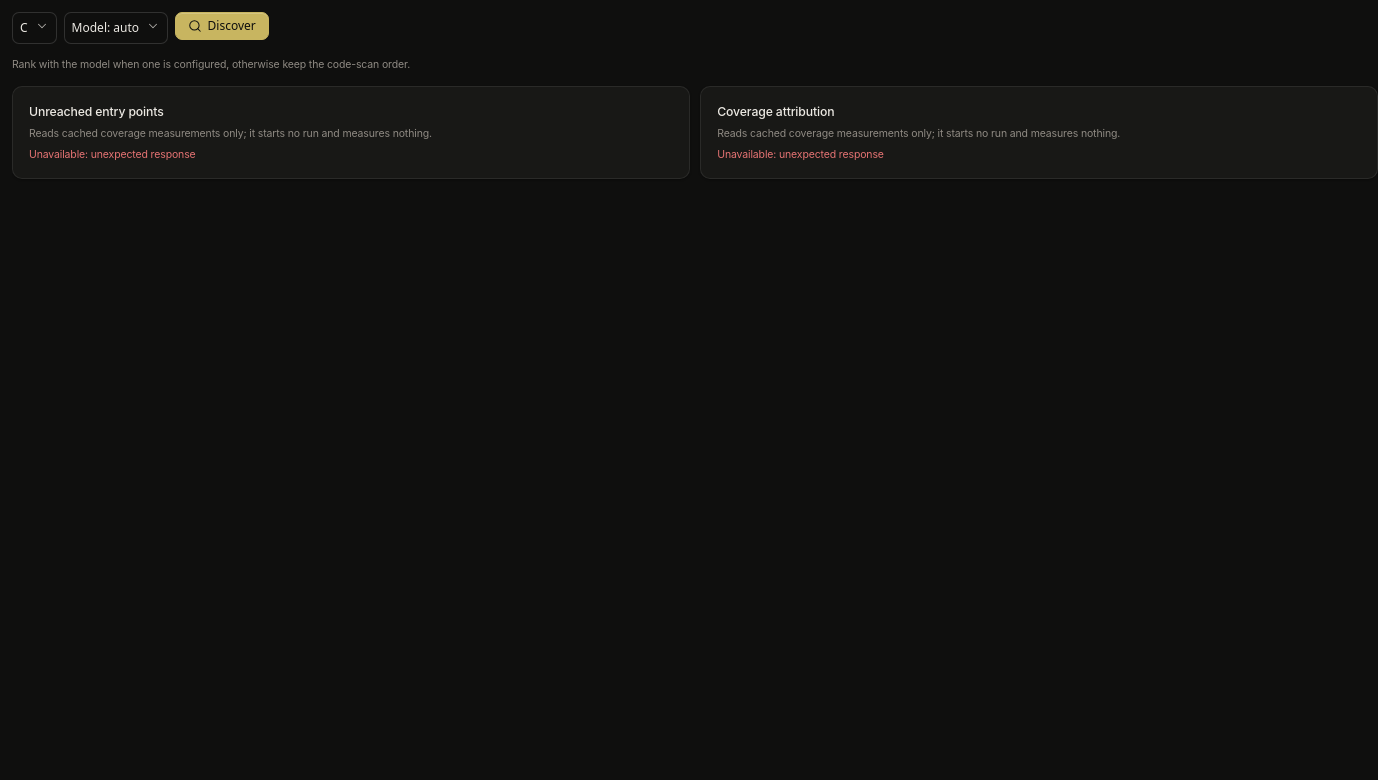
Scenario: shows the scan before AI, then three factors with one stable target handoff
Later steps or results of the test are not shown.
Click the button "Discover".
click(222, 26)  # box [175,12,269,40]
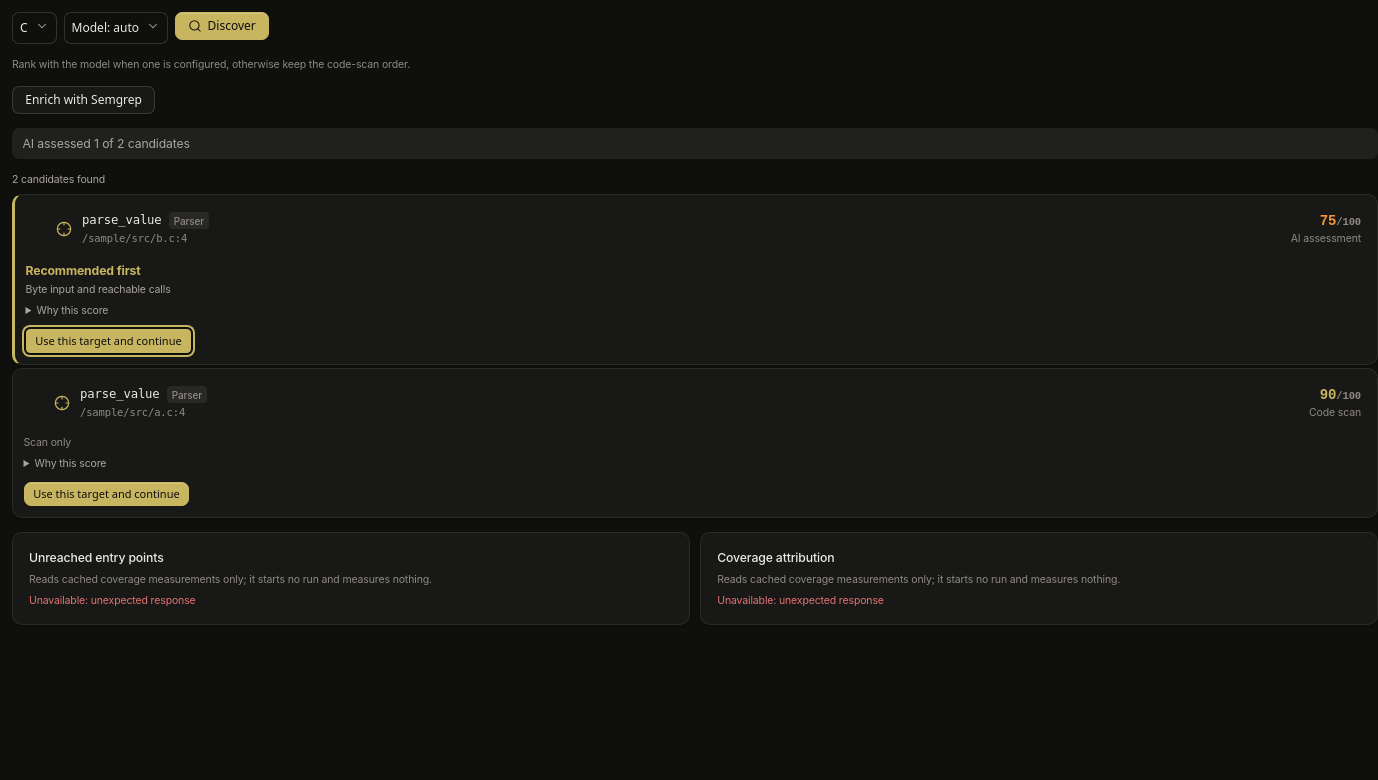
Now the text "src/a.c" is shown, box [80,406,173,418]
Now the text "Recommended first" is shown, box [26,263,141,278]
Now the text "Enrich with Semgrep" is shown, box [12,86,155,114]
